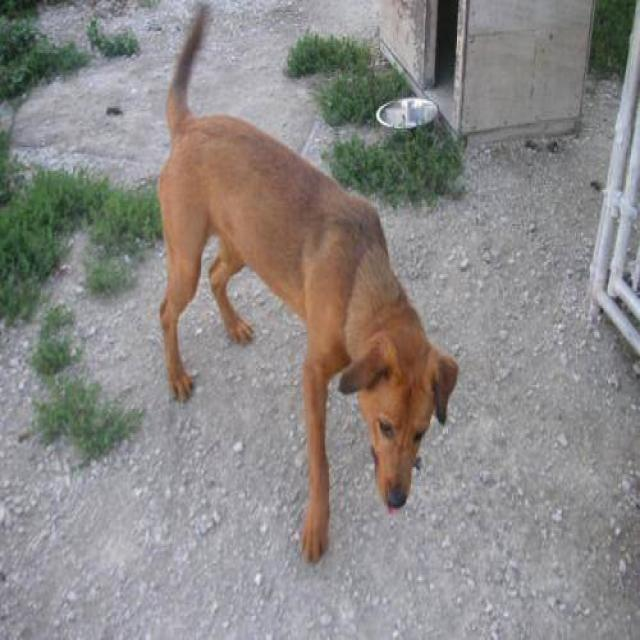dog: (157, 6, 459, 566)
